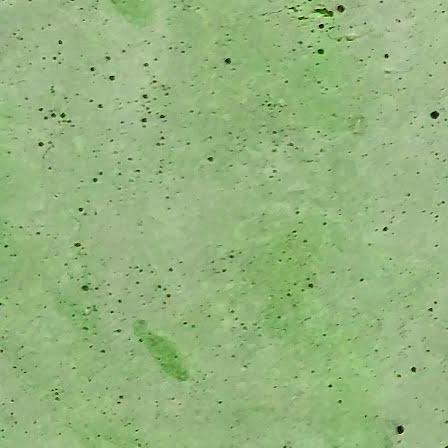spalling: (310, 5, 335, 18)
